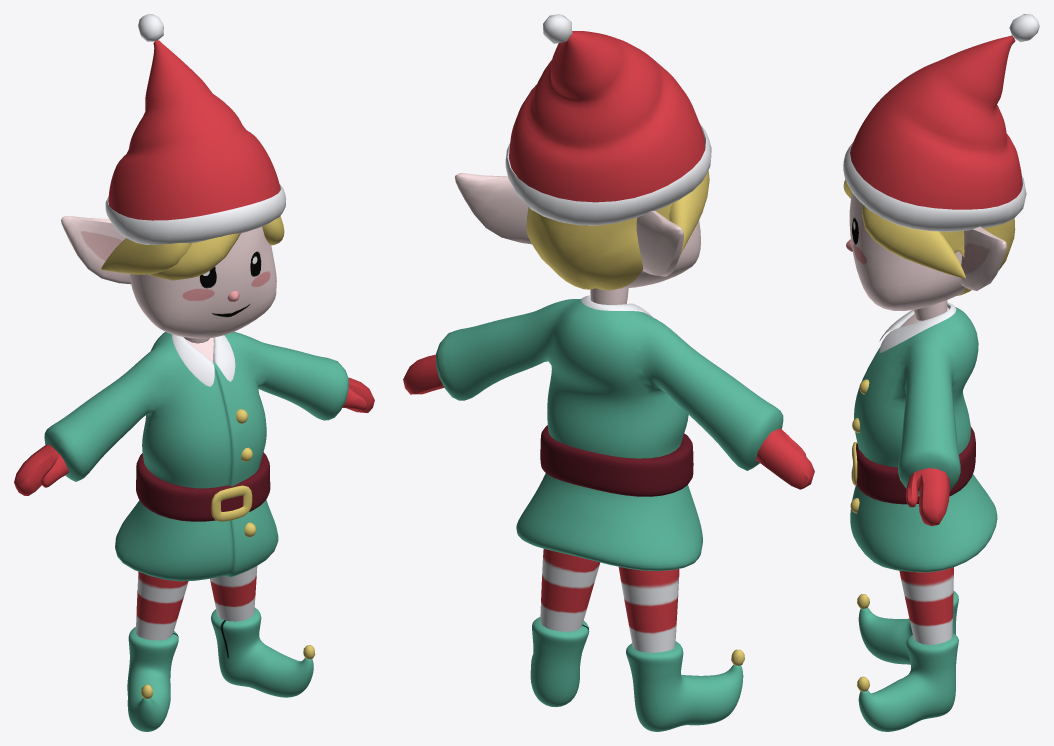
Rendered from christmas_elf.glb.
3 views of the same model, side by side, from view 1: azimuth 30°, elevation 25°; view 2: azimuth 150°, elevation 25°; view 3: azimuth 270°, elevation 25° (orthographic). The views are drawn at different scales.
Visible parts, largest first — view 1: Object_2; view 2: Object_2; view 3: Object_2.
Boxes of the visible parts, box(x1,y1,x2,y2) form: Object_2: box(14, 14, 374, 731); Object_2: box(403, 14, 814, 731); Object_2: box(843, 14, 1039, 731).
Bounding box in the file's own units: 79.13 × 138 × 36.09.
1 material, 1 textured.
